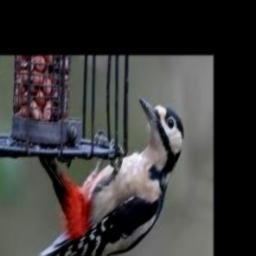Woodpecker: (36, 98, 184, 256)
